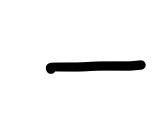minus: (46, 60, 146, 74)
